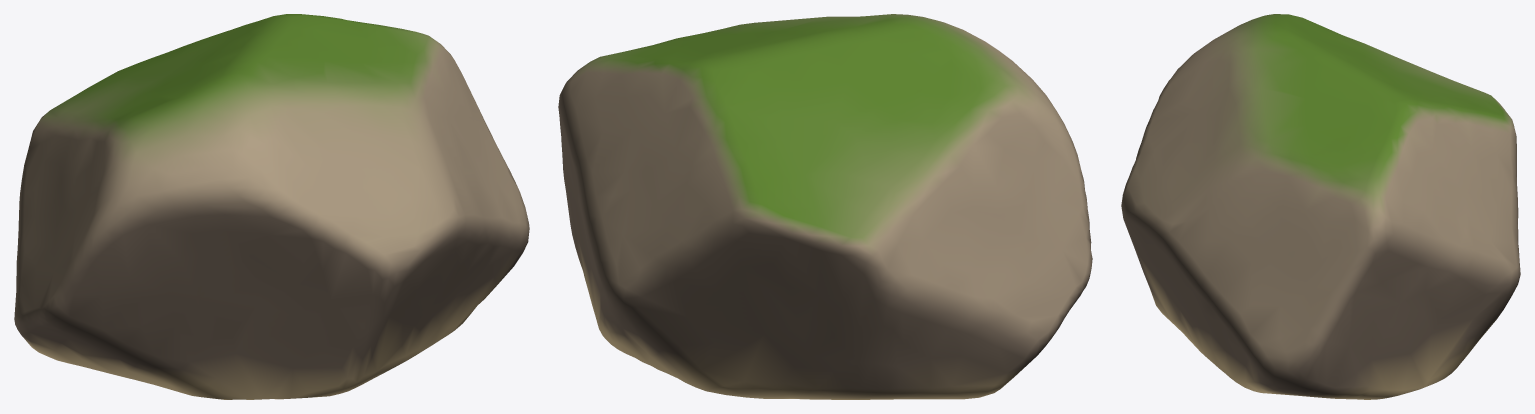
Rendered from rock_a.glb.
The picture shows the model from 3 angles, left to right: view 1: azimuth 30°, elevation 25°; view 2: azimuth 150°, elevation 25°; view 3: azimuth 270°, elevation 25°; orthographic projection. The views are drawn at different scales.
Visible parts, largest first — view 1: rock_a_mesh; view 2: rock_a_mesh; view 3: rock_a_mesh.
Boxes of the visible parts, x1=… form: rock_a_mesh: x1=14, y1=14, x2=529, y2=399; rock_a_mesh: x1=558, y1=14, x2=1092, y2=399; rock_a_mesh: x1=1121, y1=14, x2=1520, y2=399.
Bounding box in the file's own units: 2.6 × 1.47 × 2.01.
